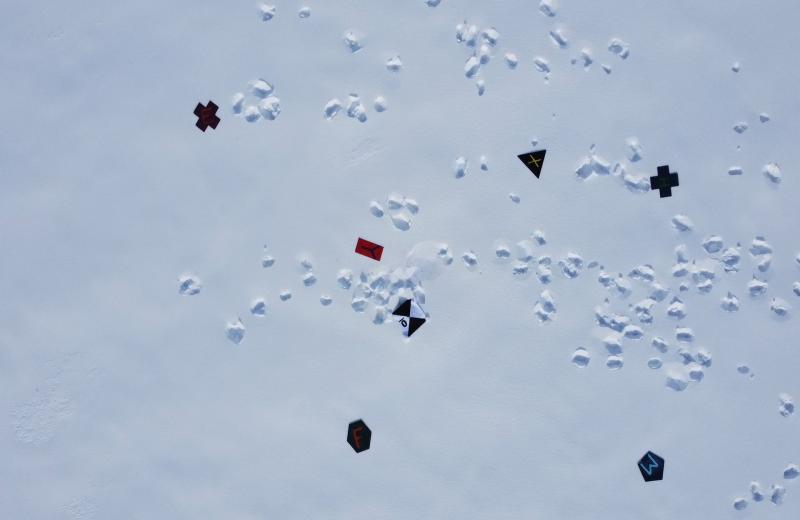Cross: (651, 162, 681, 199), (194, 101, 222, 133)
Hexagon: (346, 417, 374, 454)
Pentagon: (637, 452, 666, 483)
Rectangle: (355, 234, 385, 264)
Triangle: (515, 147, 549, 182)
